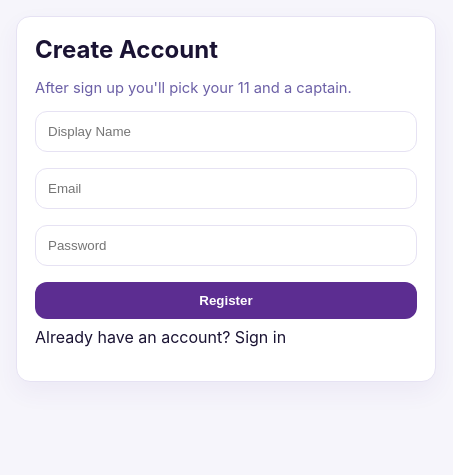
Test case: Register Component › shows validation error for short display name
This screenshot has width=453, height=475.
Type "A" into the field with placeholder "Display Name" at coordinates (226, 132), box [35,111,417,152]
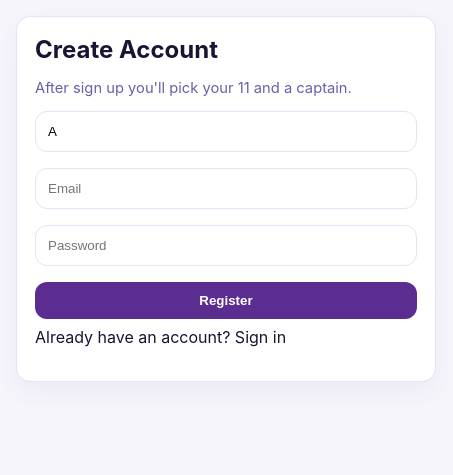
Click the button "Register" at coordinates (226, 301), box [35,282,417,319]
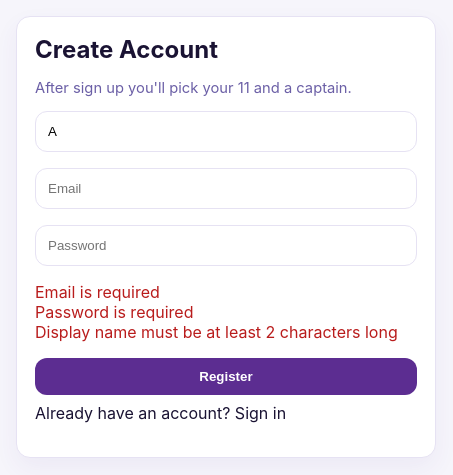
Check: the text "Display name must be at least 2 characters long" is shown, box [35,322,417,342]
